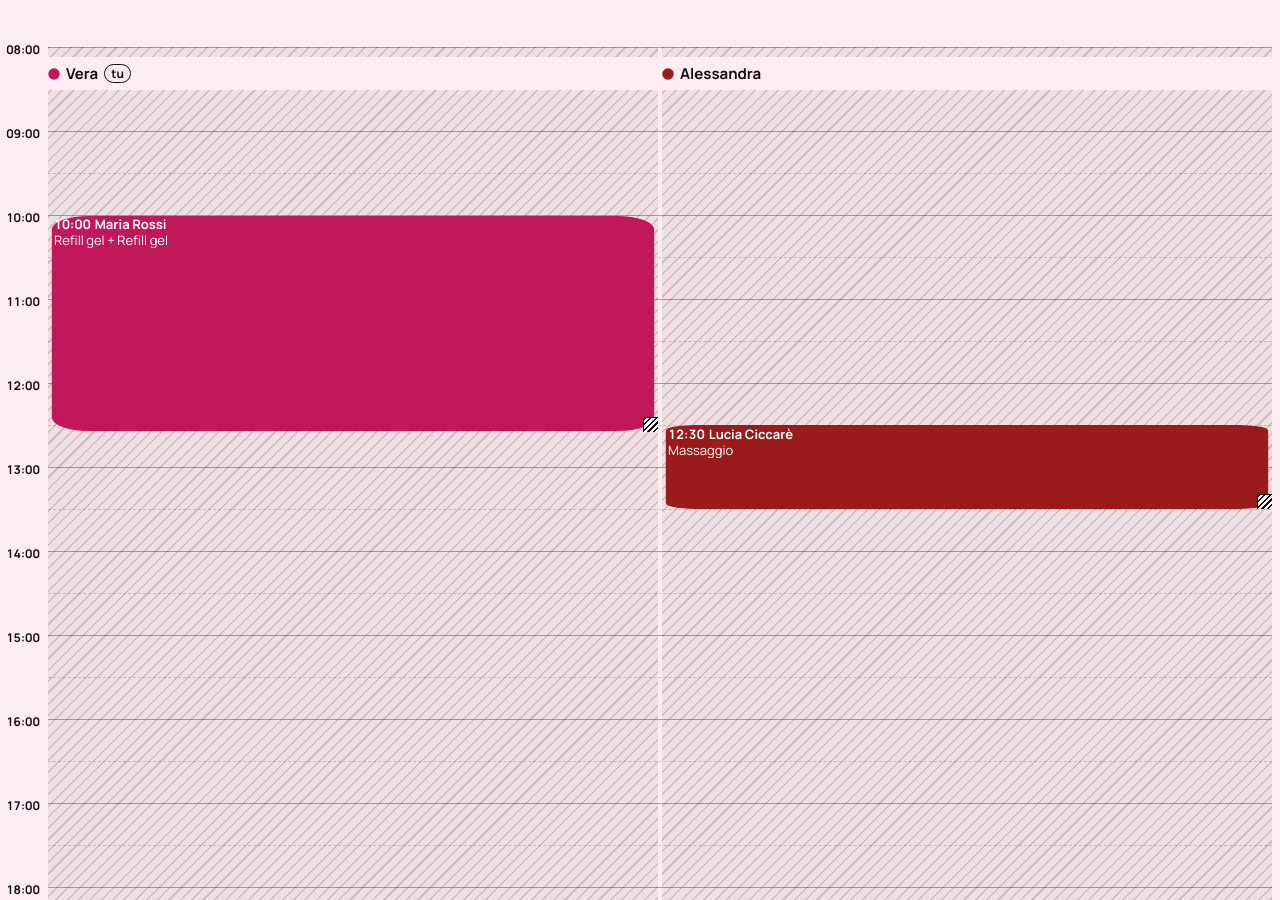
Test case: l invio del gesto › ✓: «✓ Spostata alle 10:20 · Annulla», il codice si toglie, e il giorno si rilegge
Step 1. Press the mouse on the button "10:00 Maria Rossi Refill gel + Refill gel" → (353, 324), box [48, 215, 658, 432]
Wait 400 ms
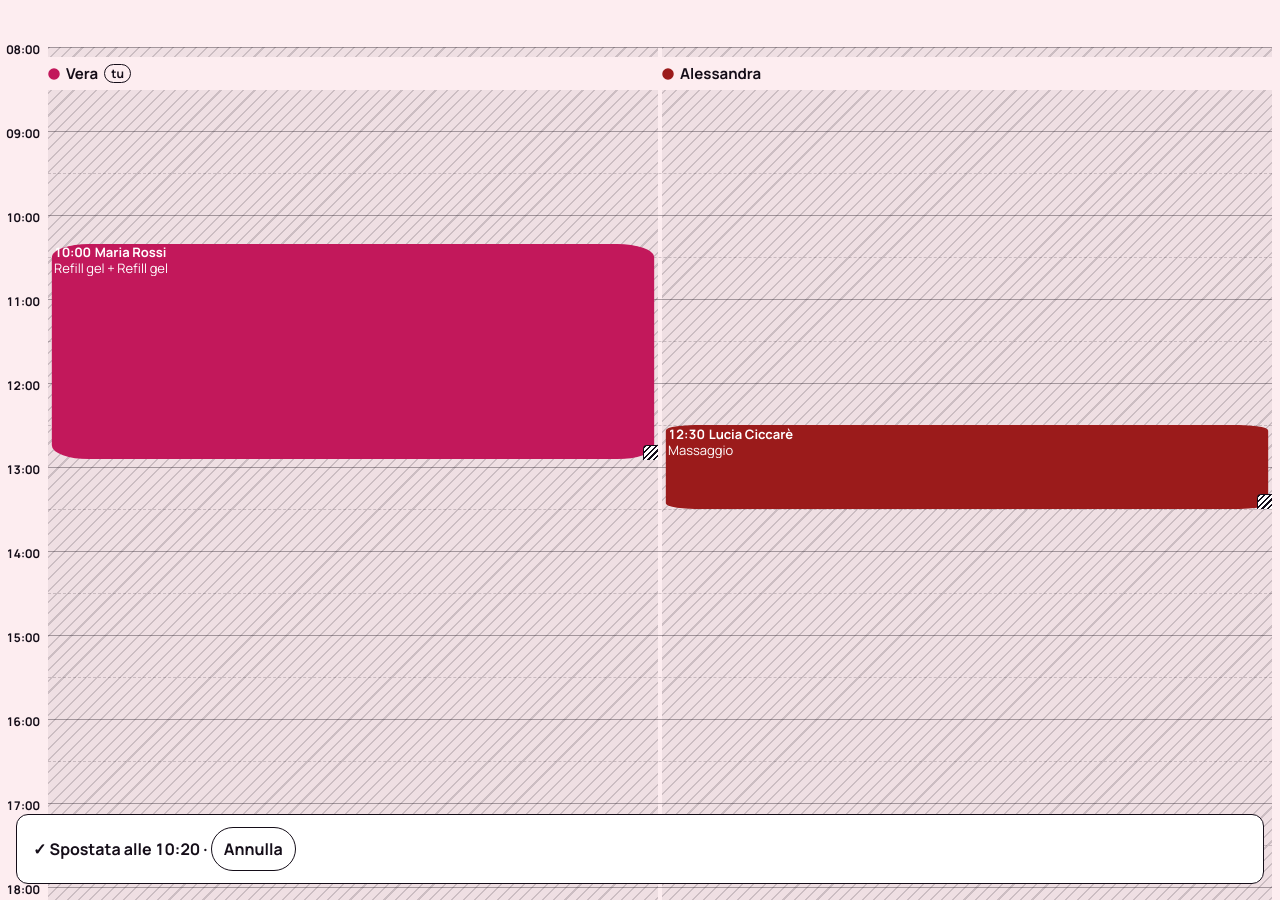
Check: the message shows "✓ Spostata alle 10:20", box [33, 838, 200, 860]
Check: the button "Annulla" is shown, box [211, 827, 296, 871]
